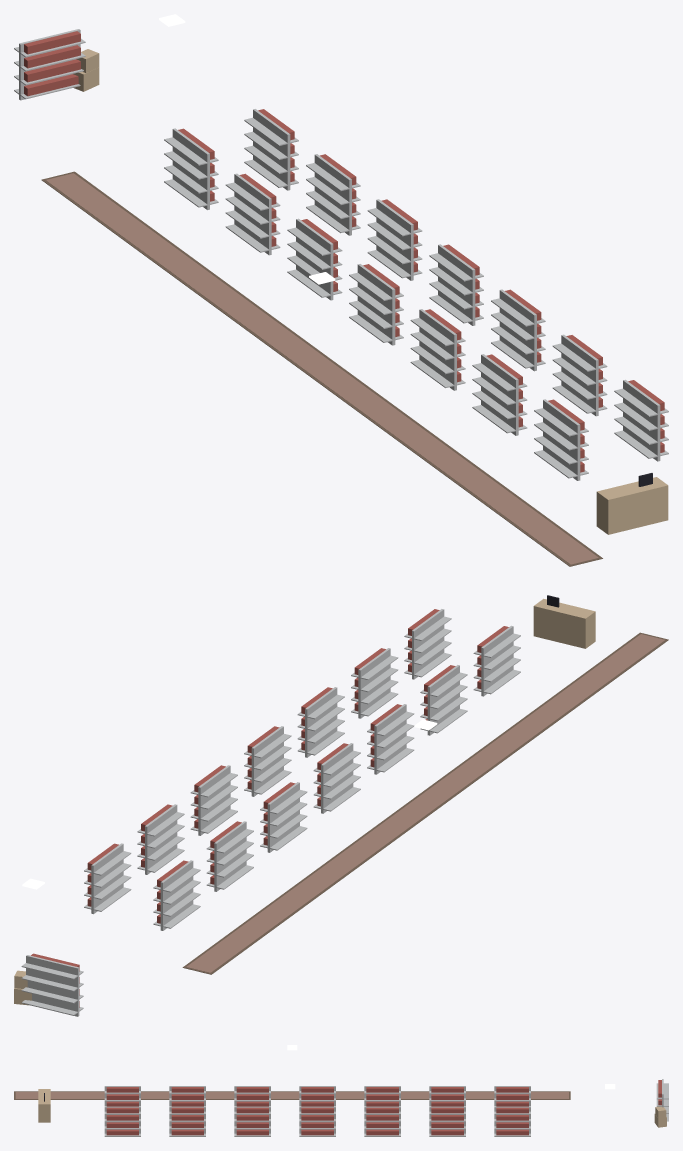
The model's file is fine-s0.glb.
The picture shows the model from 3 angles, top to bottom: view 1: azimuth 30°, elevation 25°; view 2: azimuth 150°, elevation 25°; view 3: azimuth 270°, elevation 25°; orthographic projection. The views are drawn at different scales.
Parts seen in each view (by area): view 1: soft-s0, shelving.000, shop-counter.000, shelf.001, shelf.003, shelf.011, shelf.004, shelf.000, shelf.008, shelf.005, shelf.009, shelf.013 (+6 smaller); view 2: soft-s0, shelving.000, shop-counter.000, shelf.000, shelf.007, shelf.008, shelf.001, shelf.010, shelf.002, shelf.009, shelf.013, shelf.003 (+5 smaller); view 3: soft-s0, shelf.007, shelf.008, shelf.009, shelf.010, shelf.011, shelf.012, shelf.013, shelf.000, shelf.001, shelf.002, shelf.003 (+6 smaller).
Part boxes in pixels (left/top/right/bottom): soft-s0: left=41, top=171, right=602, bottom=566; shelving.000: left=14, top=29, right=85, bottom=100; shop-counter.000: left=596, top=473, right=668, bottom=534; shelf.001: left=225, top=173, right=280, bottom=255; shelf.003: left=349, top=264, right=403, bottom=345; shelf.011: left=491, top=289, right=545, bottom=371; shelf.004: left=410, top=309, right=465, bottom=390; shelf.000: left=164, top=128, right=218, bottom=210; shelf.008: left=306, top=154, right=360, bottom=235; shelf.005: left=472, top=354, right=527, bottom=435; shelf.009: left=367, top=199, right=422, bottom=280; shelf.013: left=614, top=379, right=668, bottom=461; soft-s0: left=182, top=632, right=668, bottom=974; shelving.000: left=21, top=953, right=83, bottom=1016; shop-counter.000: left=533, top=595, right=595, bottom=648; shelf.000: left=153, top=860, right=200, bottom=930; shelf.007: left=84, top=843, right=131, bottom=914; shelf.008: left=137, top=804, right=184, bottom=874; shelf.001: left=206, top=821, right=253, bottom=891; shelf.010: left=244, top=726, right=291, bottom=796; shelf.002: left=260, top=782, right=307, bottom=852; shelf.009: left=190, top=765, right=237, bottom=835; shelf.013: left=404, top=609, right=451, bottom=679; shelf.003: left=313, top=743, right=360, bottom=813; soft-s0: left=14, top=1091, right=570, bottom=1099; shelf.007: left=494, top=1106, right=530, bottom=1136; shelf.008: left=429, top=1106, right=465, bottom=1136; shelf.009: left=364, top=1106, right=400, bottom=1136; shelf.010: left=299, top=1106, right=335, bottom=1136; shelf.011: left=234, top=1106, right=270, bottom=1136; shelf.012: left=169, top=1106, right=205, bottom=1136; shelf.013: left=104, top=1106, right=140, bottom=1136; shelf.000: left=494, top=1086, right=530, bottom=1106; shelf.001: left=429, top=1086, right=465, bottom=1106; shelf.002: left=364, top=1086, right=400, bottom=1106; shelf.003: left=299, top=1086, right=335, bottom=1106.
Bounding box in the file's own units: 5.55 × 2.64 × 32.26.
